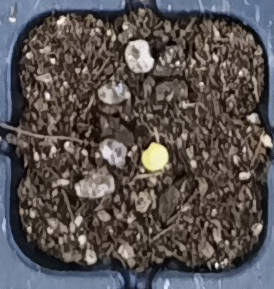pepper seed: (56, 56, 227, 229)
